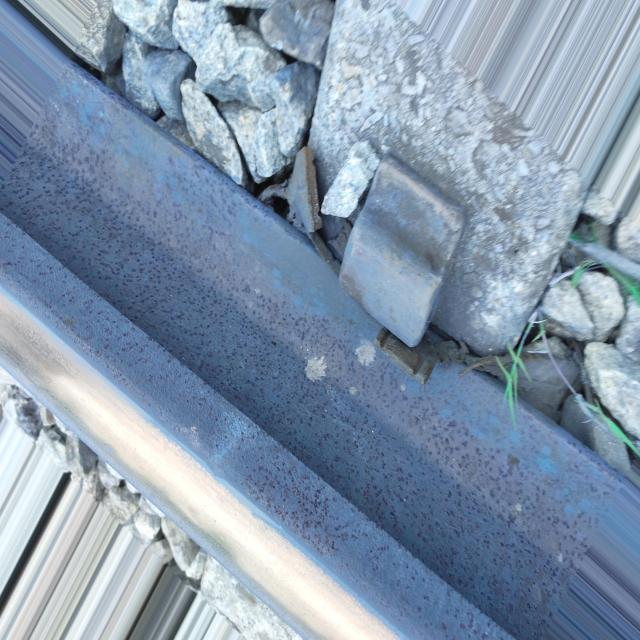Missing Fastener: (325, 146, 472, 356)
